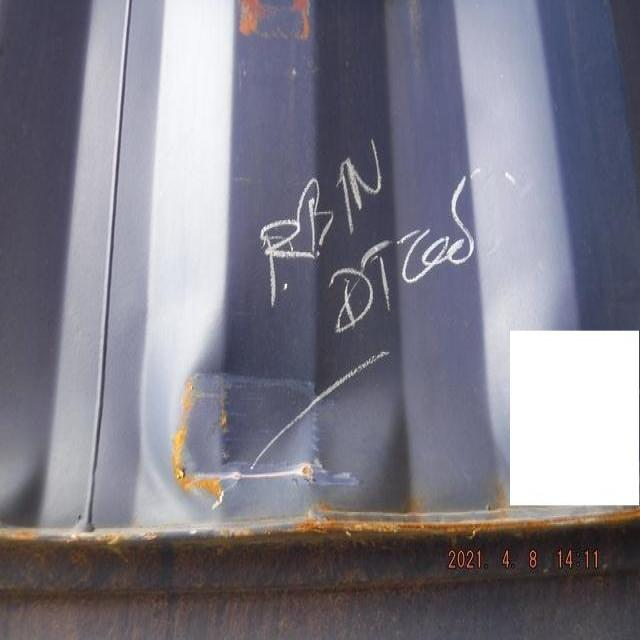dent: (122, 310, 431, 508)
